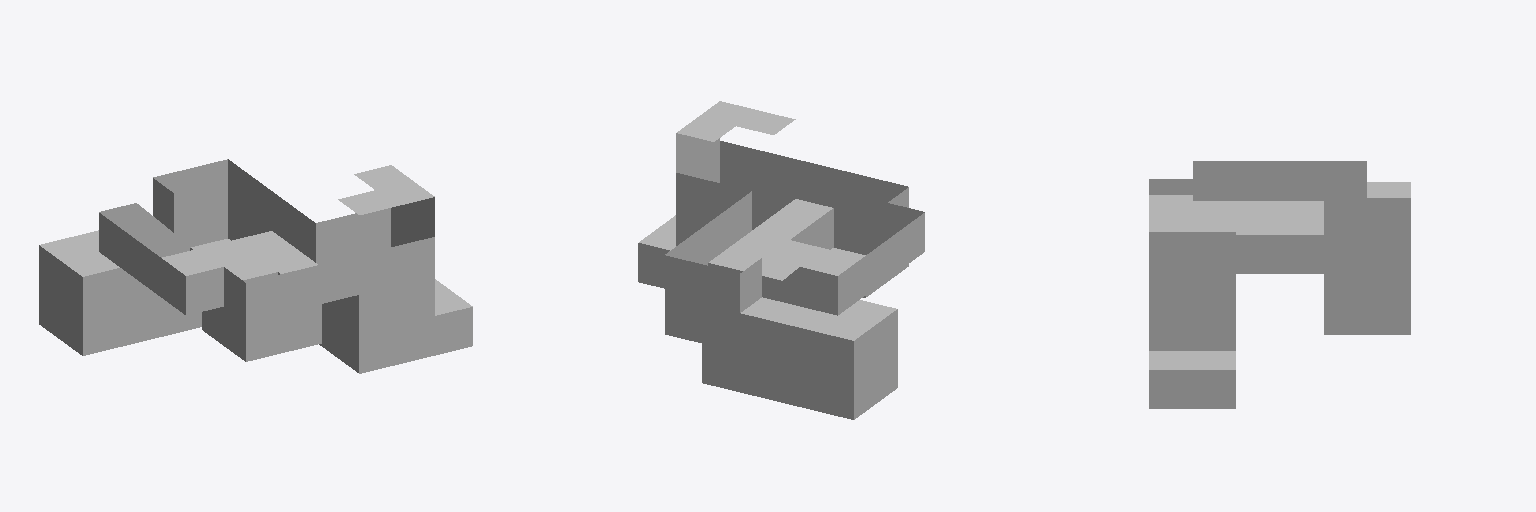
File: hamster_legs.obj
3 views of the same model, side by side, from view 1: azimuth 30°, elevation 25°; view 2: azimuth 150°, elevation 25°; view 3: azimuth 270°, elevation 25° (orthographic).
Parts seen in each view (by area): view 1: Legs; view 2: Legs; view 3: Legs.
Boxes of the visible parts, x1=… form: Legs: x1=39, y1=159, x2=472, y2=373; Legs: x1=638, y1=101, x2=924, y2=419; Legs: x1=1149, y1=161, x2=1410, y2=408.
Bounding box in the file's own units: 0.8 × 0.4 × 0.6.